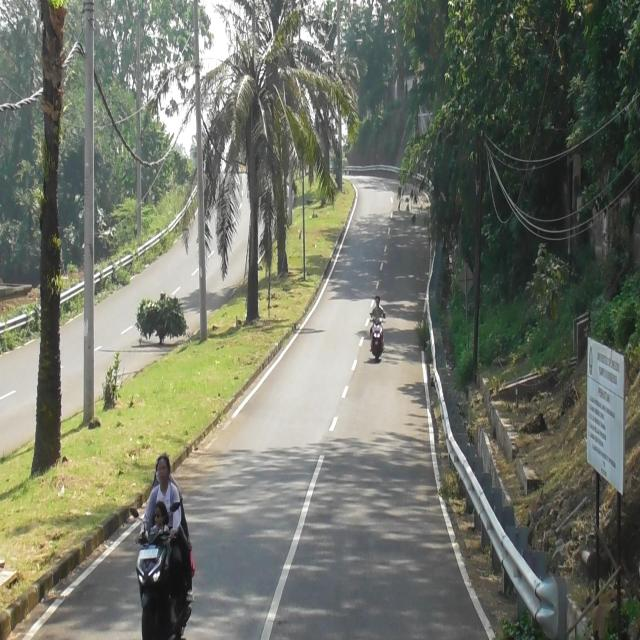motorcycle: (126, 499, 194, 640), (368, 312, 387, 362)
person: (139, 458, 195, 608), (141, 455, 183, 633), (146, 503, 179, 624), (369, 295, 386, 333)
rider_region: (125, 442, 198, 640), (368, 293, 386, 363)
